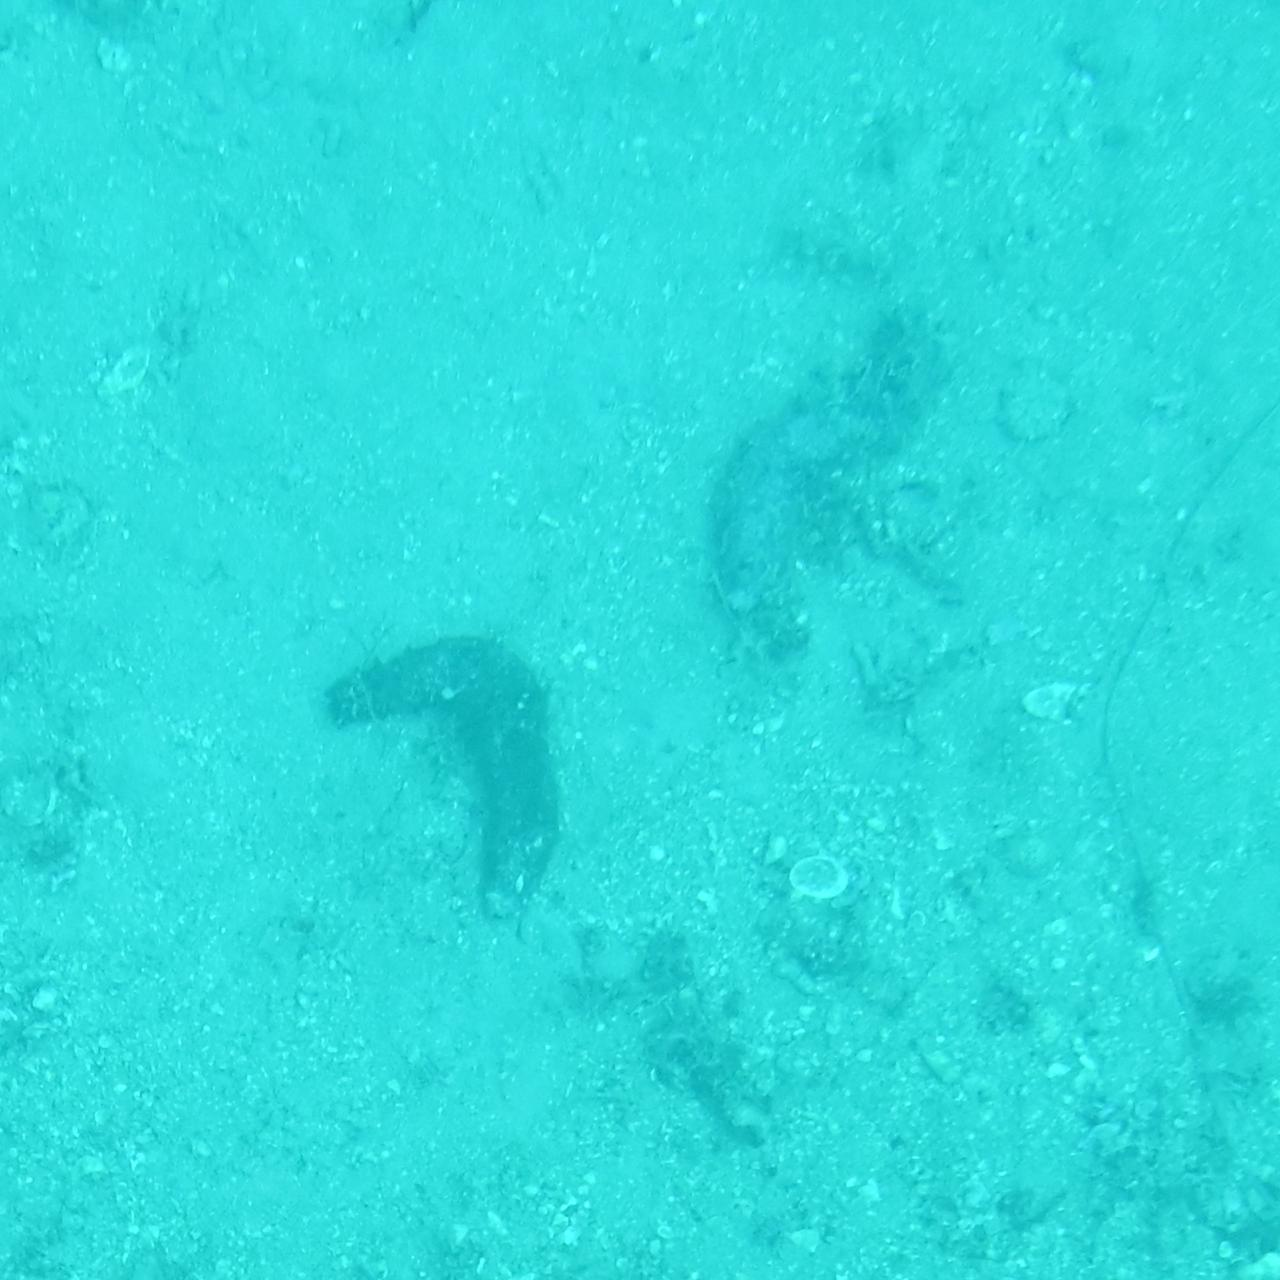Holothuria tubulosa: (719, 307, 949, 674), (319, 633, 573, 947)
